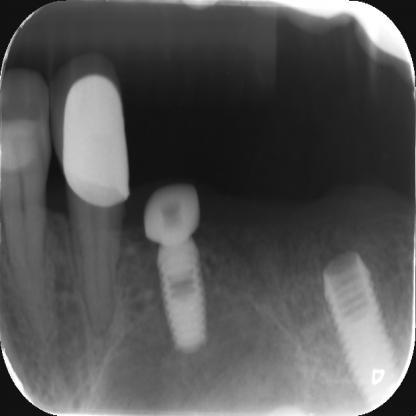Bicon: (320, 250, 402, 402), (154, 241, 209, 350)
